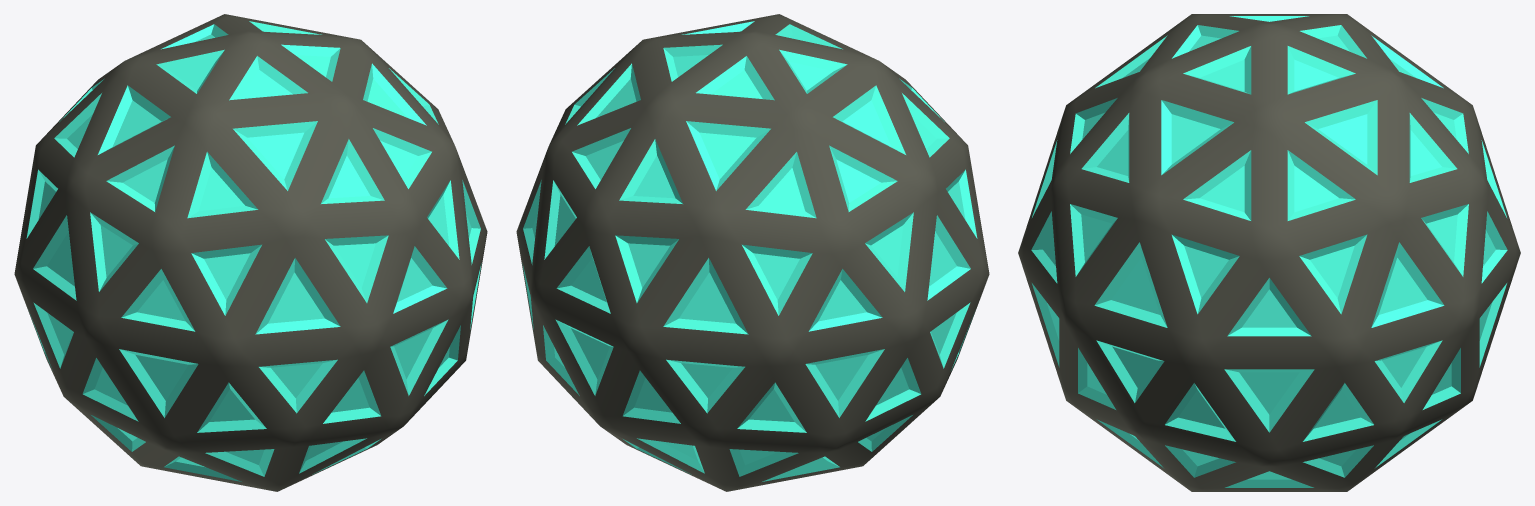
The model's file is zidan02.fbx.
The picture shows the model from 3 angles, left to right: view 1: azimuth 30°, elevation 25°; view 2: azimuth 150°, elevation 25°; view 3: azimuth 270°, elevation 25°; orthographic projection. The views are drawn at different scales.
Visible parts, largest first — view 1: 子弹02; view 2: 子弹02; view 3: 子弹02.
Boxes of the visible parts, x1,y1,x2,y2 form: 子弹02: (14, 14, 487, 491); 子弹02: (516, 14, 989, 491); 子弹02: (1018, 14, 1520, 491).
Bounding box in the file's own units: 3.34 × 3.51 × 3.51.
